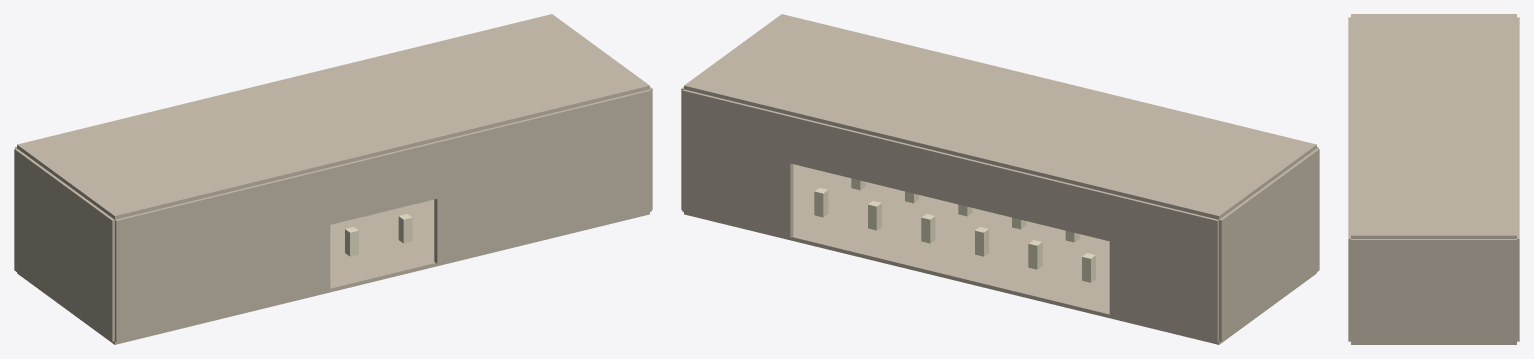
Rendered from saguao.glb.
The picture shows the model from 3 angles, left to right: view 1: azimuth 30°, elevation 25°; view 2: azimuth 150°, elevation 25°; view 3: azimuth 270°, elevation 25°; orthographic projection. The views are drawn at different scales.
Parts seen in each view (by area): view 1: saguao_teto, saguao_frente-dir, saguao_frente-esq, saguao_lateral-esq, saguao_piso, saguao_frente-verga; view 2: saguao_teto, saguao_piso, saguao_fundo-verga, saguao_fundo-dir, saguao_fundo-esq, saguao_lateral-esq; view 3: saguao_teto, saguao_lateral-dir, saguao_frente-dir, saguao_fundo-dir, saguao_fundo-verga, saguao_piso, saguao_frente-esq.
Part boxes in pixels (<box>): saguao_teto: <box>17,14,649,219</box>; saguao_frente-dir: <box>434,89,651,263</box>; saguao_frente-esq: <box>115,167,330,342</box>; saguao_lateral-esq: <box>14,148,114,341</box>; saguao_piso: <box>17,199,649,344</box>; saguao_frente-verga: <box>329,141,437,224</box>; saguao_teto: <box>684,14,1316,219</box>; saguao_piso: <box>684,164,1316,344</box>; saguao_fundo-verga: <box>790,115,1110,241</box>; saguao_fundo-dir: <box>682,89,793,237</box>; saguao_fundo-esq: <box>1109,193,1218,342</box>; saguao_lateral-esq: <box>1219,148,1319,341</box>; saguao_teto: <box>1351,14,1516,238</box>; saguao_lateral-dir: <box>1351,239,1516,342</box>; saguao_frente-dir: <box>1348,150,1350,341</box>; saguao_fundo-dir: <box>1517,194,1519,341</box>; saguao_fundo-verga: <box>1517,62,1519,193</box>; saguao_piso: <box>1351,343,1516,344</box>; saguao_frente-esq: <box>1348,17,1350,105</box>.
Size of the model in its own units: 30.3 by 6.9 by 9.8.
